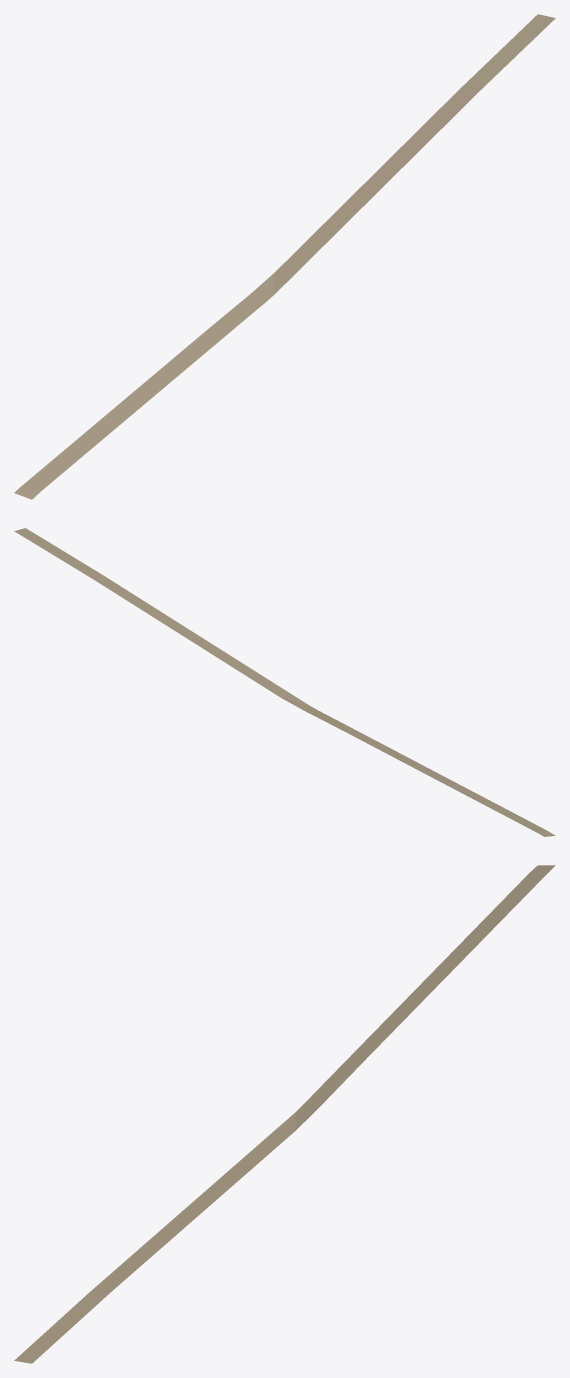
File: farm_-54_-53_track.glb
3 views of the same model, one above another, from view 1: azimuth 90°, elevation 25°; view 2: azimuth 150°, elevation 25°; view 3: azimuth 270°, elevation 25° (orthographic). The views are drawn at different scales.
Visible parts, largest first — view 1: geometry_0; view 2: geometry_0; view 3: geometry_0.
Part boxes in pixels (<box>): geometry_0: <box>14,14,555,499</box>; geometry_0: <box>14,528,555,836</box>; geometry_0: <box>14,865,555,1363</box>.
Bounding box in the file's own units: 192 × 4.43 × 89.46.
